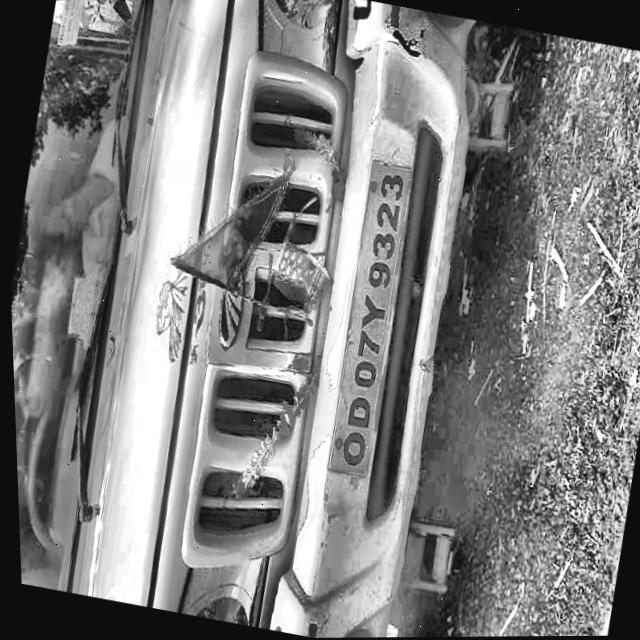light_vehicle: (0, 0, 516, 640)
